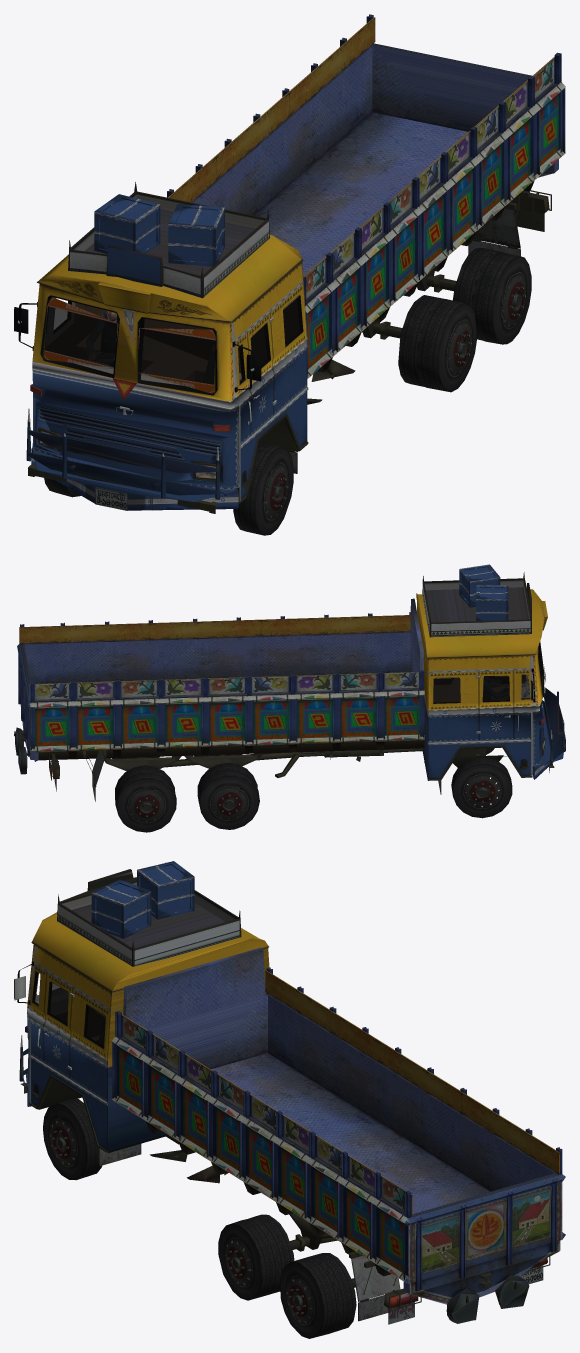
Rendered from truck_2515.glb.
The picture shows the model from 3 angles, top to bottom: view 1: azimuth 30°, elevation 25°; view 2: azimuth 150°, elevation 25°; view 3: azimuth 270°, elevation 25°; orthographic projection. The views are drawn at different scales.
Visible parts, largest first — view 1: Object_5, Object_2, Object_6, Object_3, Object_4; view 2: Object_2, Object_5, Object_6, Object_3, Object_4; view 3: Object_2, Object_5, Object_6, Object_3.
Boxes of the visible parts, x1,y1,x2,y2 form: Object_5: (14,182,551,513); Object_2: (167,14,565,378); Object_6: (44,248,531,535); Object_3: (44,296,301,384); Object_4: (86,310,143,368); Object_2: (14,598,424,774); Object_5: (21,564,565,801); Object_6: (111,748,512,832); Object_3: (433,643,542,703); Object_4: (483,676,521,700); Object_2: (112,947,565,1323); Object_5: (14,861,550,1324); Object_6: (43,1098,356,1338); Object_3: (48,982,105,1047).
Bounding box in the file's own units: 85.5 × 36.91 × 69.24.
5 materials, 4 textured.
